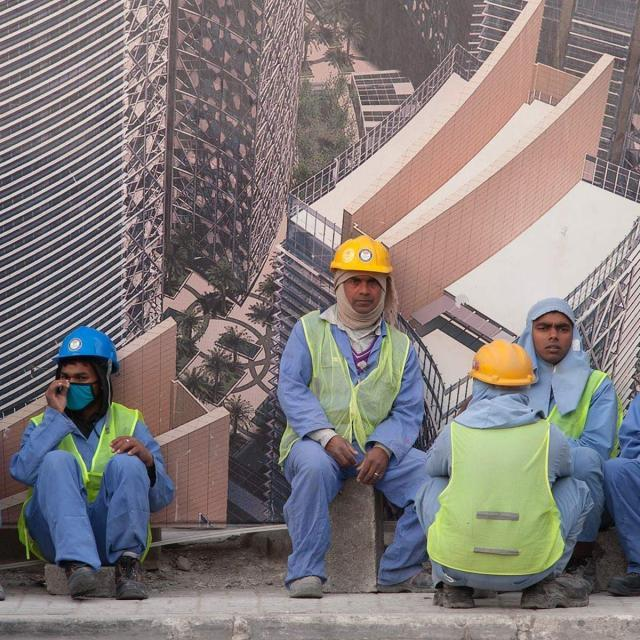reflective_jacket: (425, 410, 561, 579), (280, 312, 419, 461), (30, 403, 148, 503), (542, 364, 621, 459)
safety_helmet: (465, 337, 536, 388), (329, 233, 394, 276), (50, 323, 116, 361)
